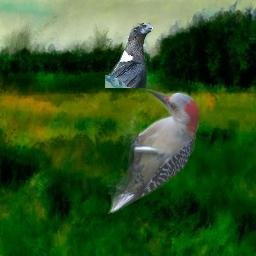Crow: (105, 23, 154, 88)
Woodpecker: (107, 89, 199, 216)
